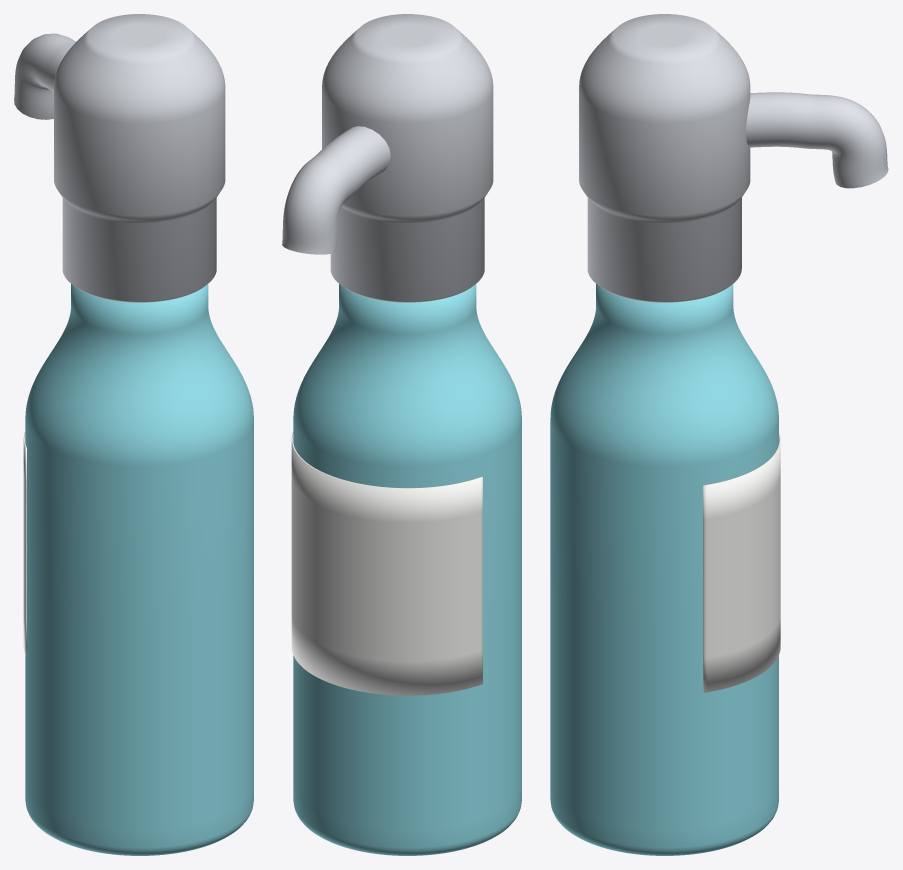
3 renders of one model, left to right at view 1: azimuth 30°, elevation 25°; view 2: azimuth 150°, elevation 25°; view 3: azimuth 270°, elevation 25°, orthographic.
Visible parts, largest first — view 1: BottleBody.001, PumpHead.001, PumpNozzle.001, Label.001; view 2: BottleBody.001, Label.001, PumpHead.001, PumpNozzle.001; view 3: BottleBody.001, PumpHead.001, Label.001, PumpNozzle.001.
Boxes of the visible parts, left/top/right/bottom form: BottleBody.001: left=25, top=284, right=253, bottom=855; PumpHead.001: left=54, top=14, right=225, bottom=302; PumpNozzle.001: left=14, top=33, right=75, bottom=119; Label.001: left=23, top=432, right=26, bottom=655; BottleBody.001: left=293, top=284, right=521, bottom=855; Label.001: left=291, top=432, right=482, bottom=695; PumpHead.001: left=322, top=14, right=493, bottom=302; PumpNozzle.001: left=282, top=126, right=390, bottom=254; BottleBody.001: left=550, top=284, right=778, bottom=855; PumpHead.001: left=579, top=14, right=750, bottom=302; Label.001: left=703, top=432, right=780, bottom=692; PumpNozzle.001: left=746, top=92, right=888, bottom=188.
Size of the model in its own units: 0.04 by 0.15 by 0.0592.
